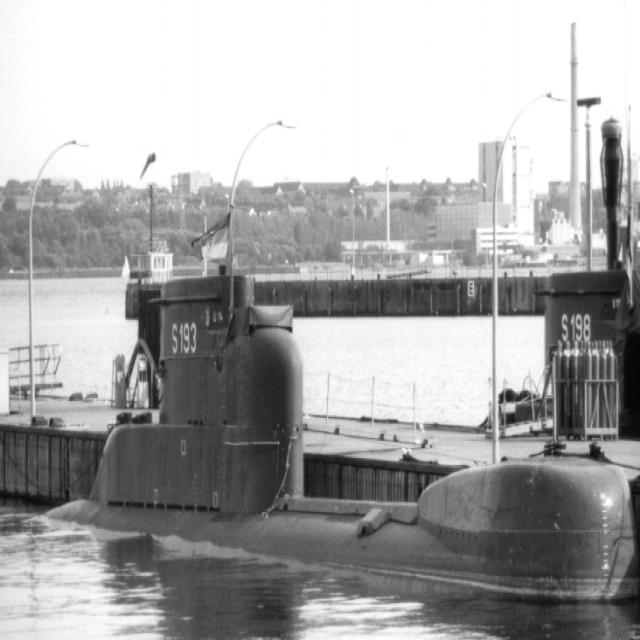submarine: (43, 274, 640, 601)
